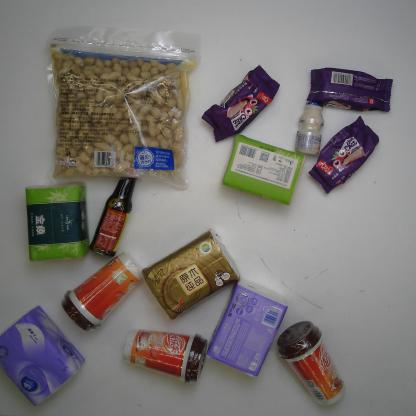Dessert: (201, 64, 281, 143), (308, 112, 380, 195), (306, 66, 394, 113)
Dried Food: (42, 23, 202, 192)
Instant Drink: (60, 249, 145, 334), (277, 319, 346, 408), (122, 326, 209, 386)
Milk: (294, 100, 325, 158)
Seasoner: (90, 176, 138, 259)
Tissue: (141, 227, 243, 322), (0, 304, 87, 408), (205, 276, 291, 380), (220, 132, 305, 206), (24, 180, 90, 263)
